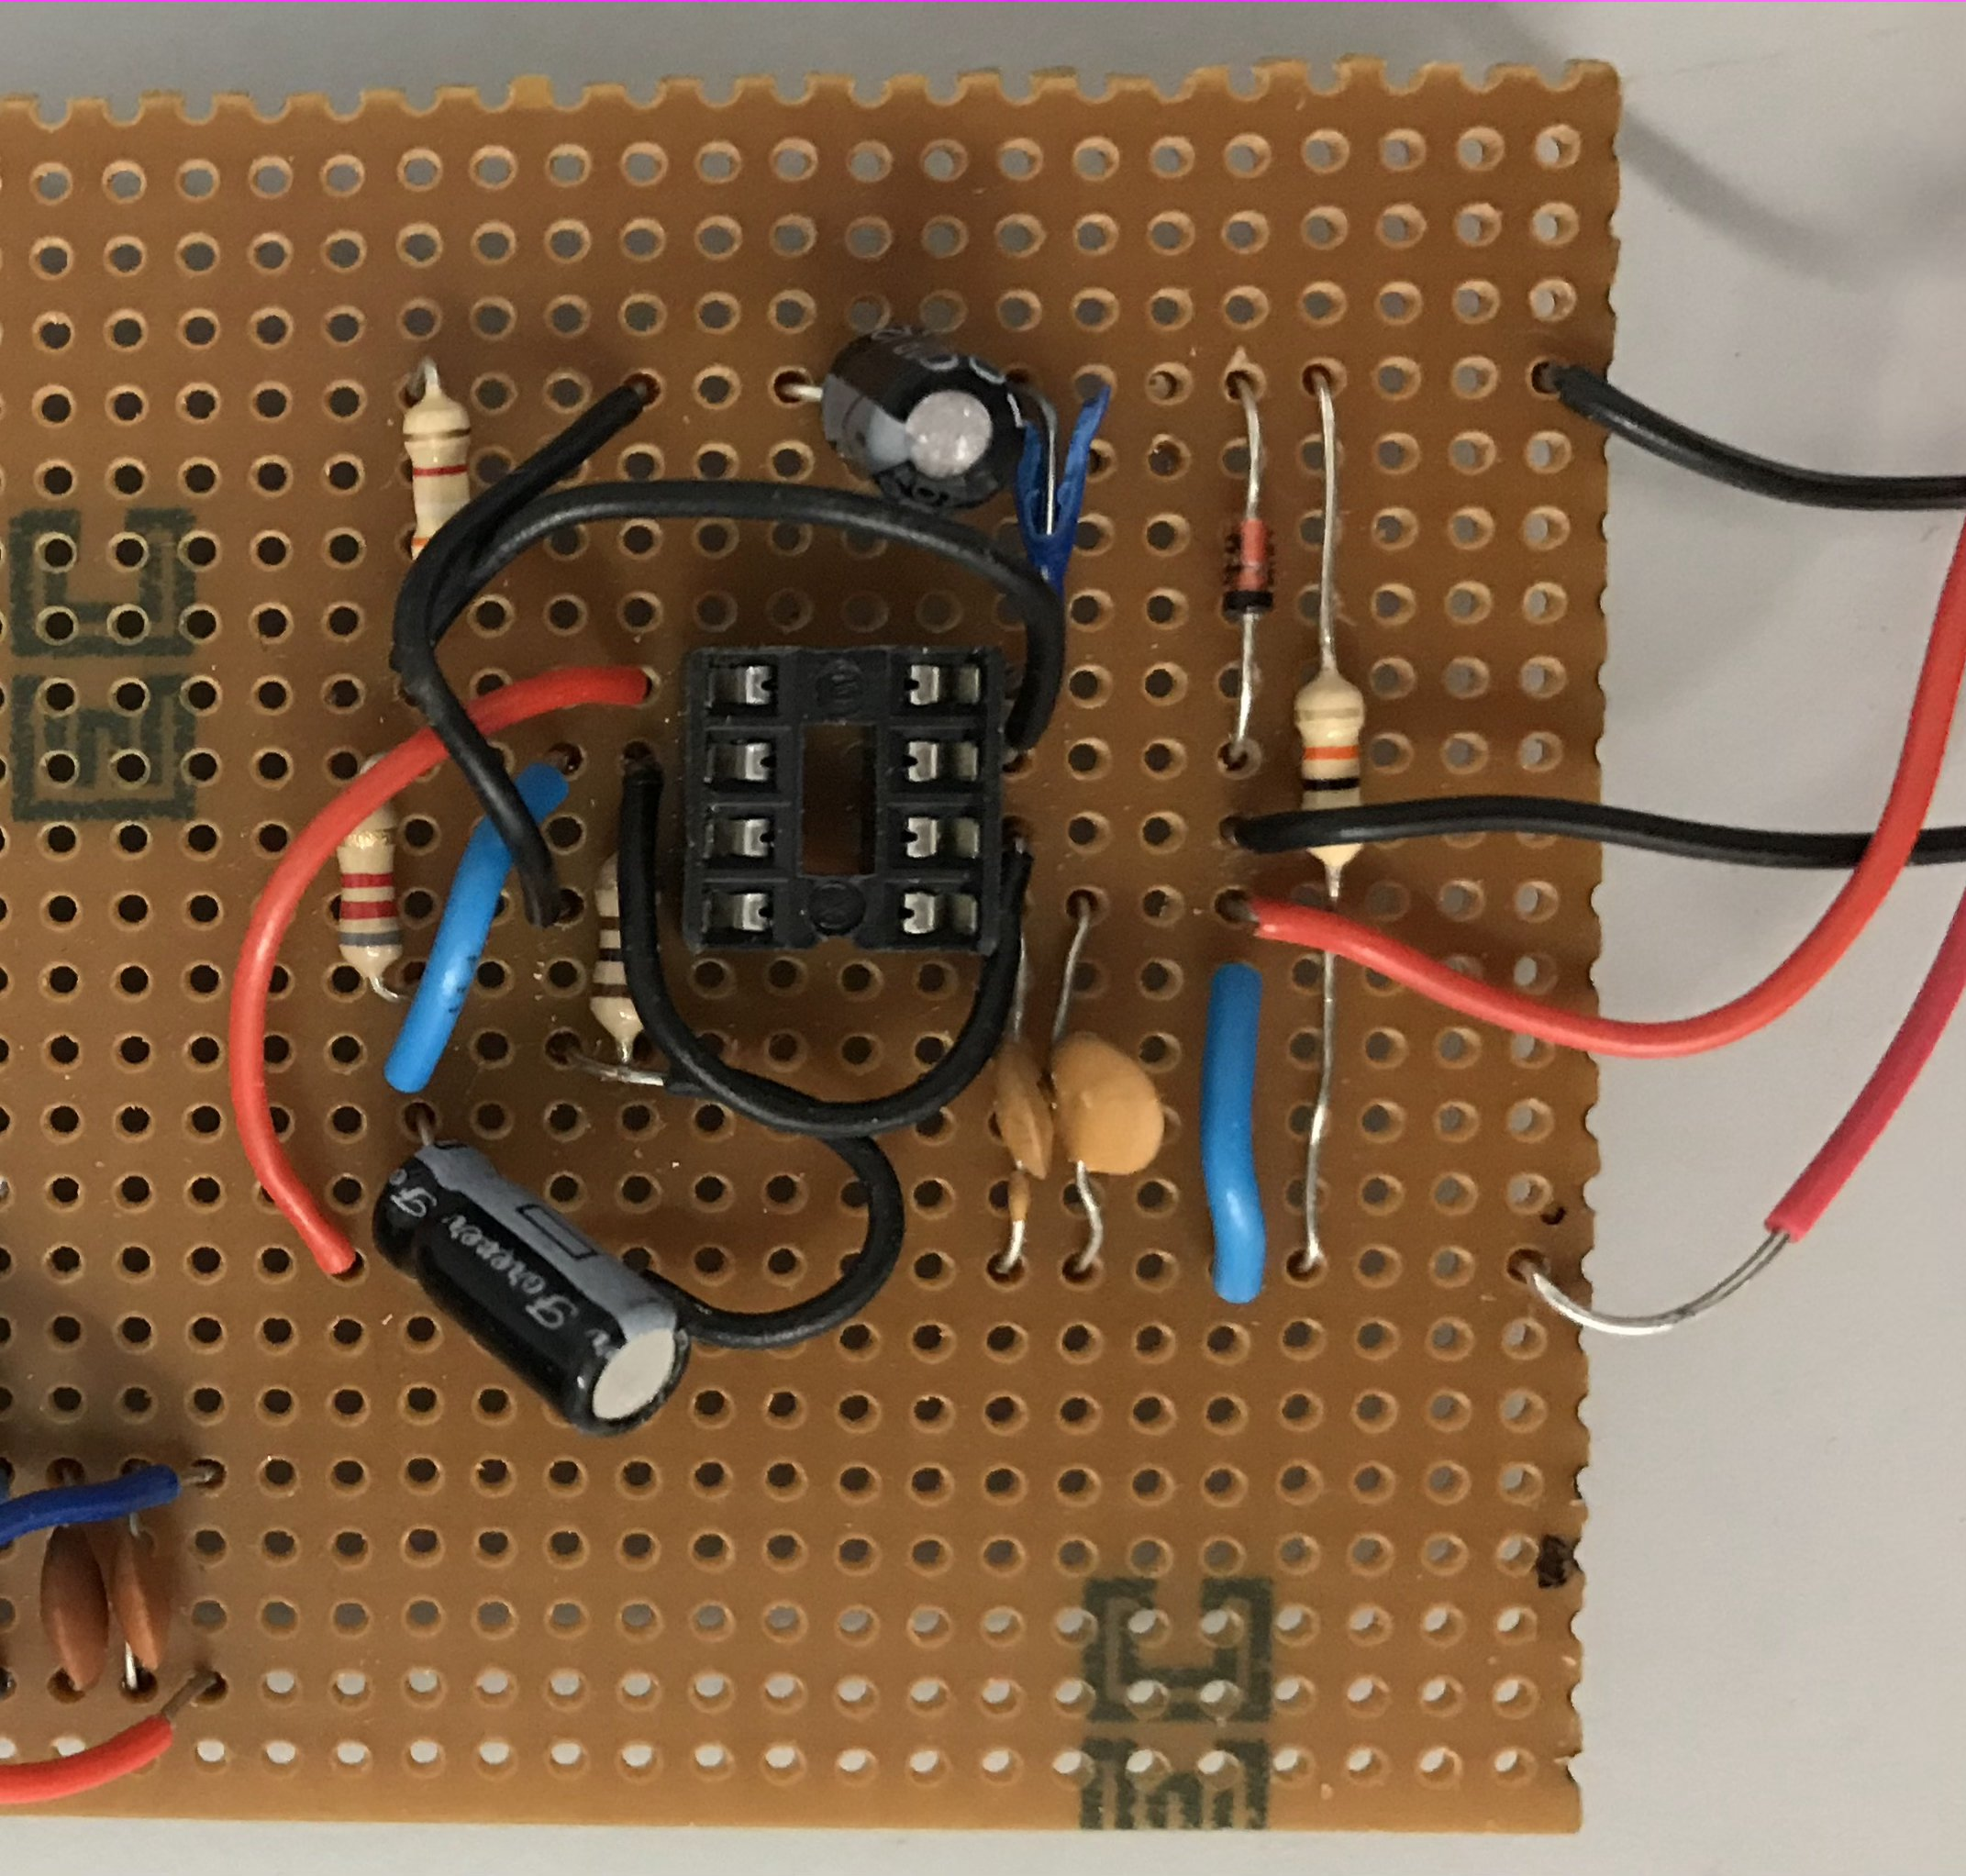Capacitor: (362, 1128, 695, 1439), (811, 325, 1039, 523)
Diode: (1220, 505, 1285, 634)
Resistor: (1285, 653, 1376, 881), (325, 774, 414, 993), (391, 384, 491, 577), (583, 839, 664, 1058)
